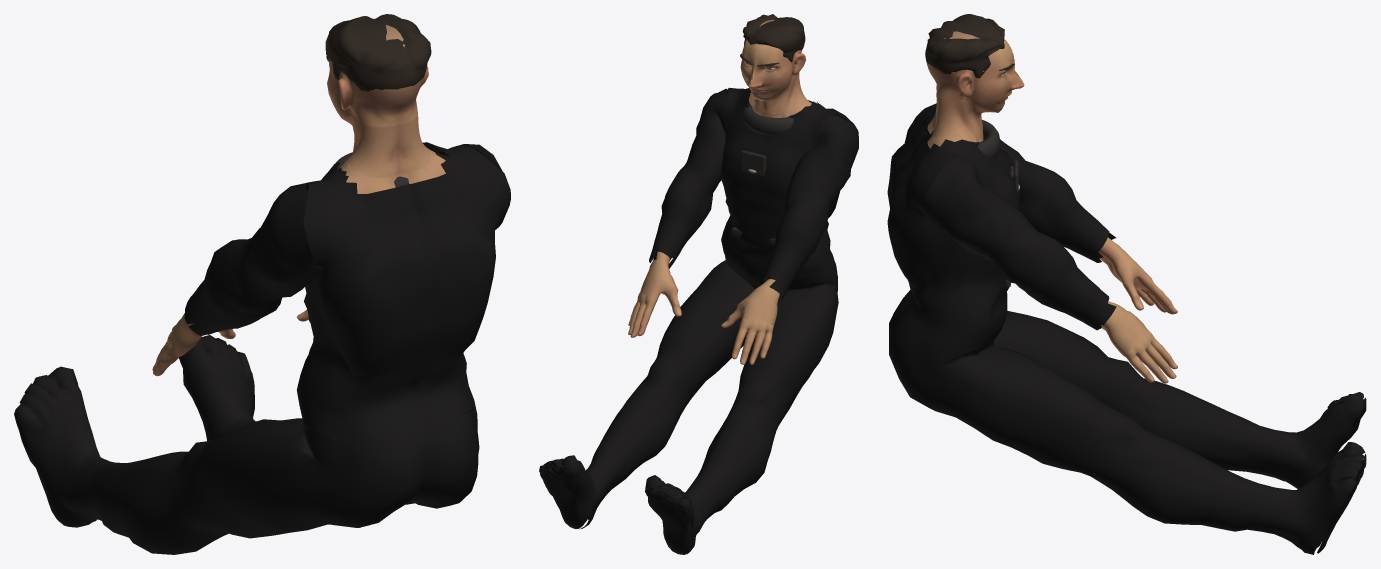
File: cc0-driver-hitler.glb
3 renders of one model, left to right at view 1: azimuth 30°, elevation 25°; view 2: azimuth 150°, elevation 25°; view 3: azimuth 270°, elevation 25°, orthographic. The views are drawn at different scales.
Visible parts, largest first — view 1: Pilot suit, Pilot head, Hair_SimpleParted, SuperHero_Male; view 2: Pilot suit, SuperHero_Male, Pilot head, Hair_SimpleParted, Pilot leather collar, Pilot leather bib; view 3: Pilot suit, SuperHero_Male, Pilot head, Hair_SimpleParted.
Boxes of the visible parts, x1,y1,x2,y2 form: Pilot suit: [14, 142, 510, 554]; Pilot head: [327, 25, 430, 183]; Hair_SimpleParted: [325, 14, 431, 91]; SuperHero_Male: [73, 148, 488, 473]; Pilot suit: [539, 87, 858, 554]; SuperHero_Male: [545, 92, 835, 544]; Pilot head: [740, 19, 806, 116]; Hair_SimpleParted: [742, 14, 805, 62]; Pilot leather collar: [742, 104, 793, 135]; Pilot leather bib: [741, 150, 766, 175]; Pilot suit: [887, 103, 1366, 554]; SuperHero_Male: [901, 109, 1358, 547]; Pilot head: [926, 31, 1024, 142]; Hair_SimpleParted: [925, 14, 1004, 78].
Size of the model in its own units: 0.5468 by 1.44 by 1.25.
9 materials, 2 textured.
